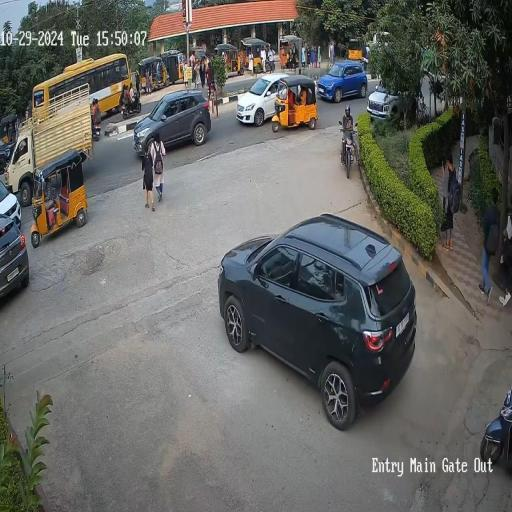helmet: (338, 106, 357, 131)
triple riding: (115, 79, 143, 114)
